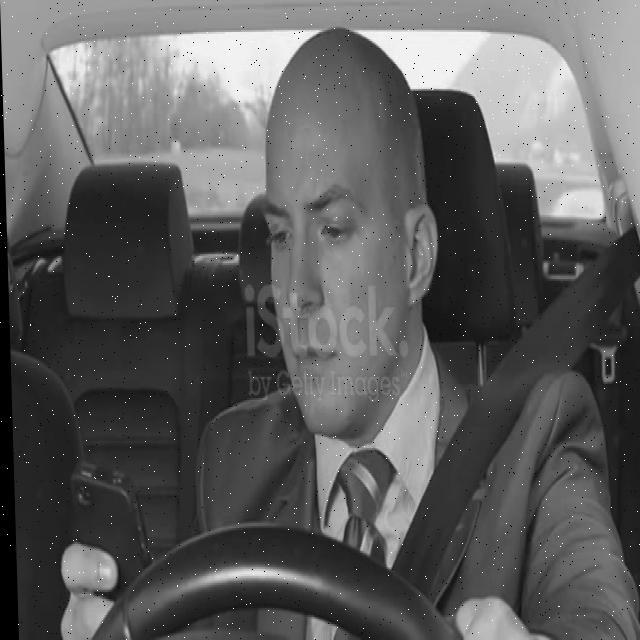PhoneCall: (66, 462, 148, 578)
